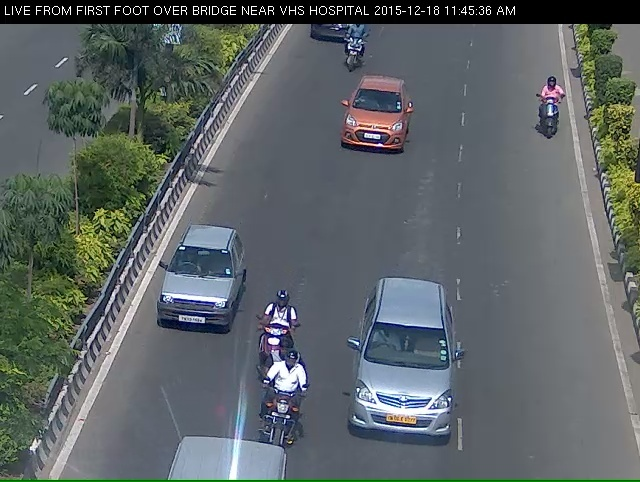Car: (347, 284, 468, 473), (138, 245, 239, 359), (337, 87, 415, 171)
Person: (255, 389, 308, 482), (248, 311, 293, 408), (535, 84, 566, 147), (341, 26, 367, 81)
